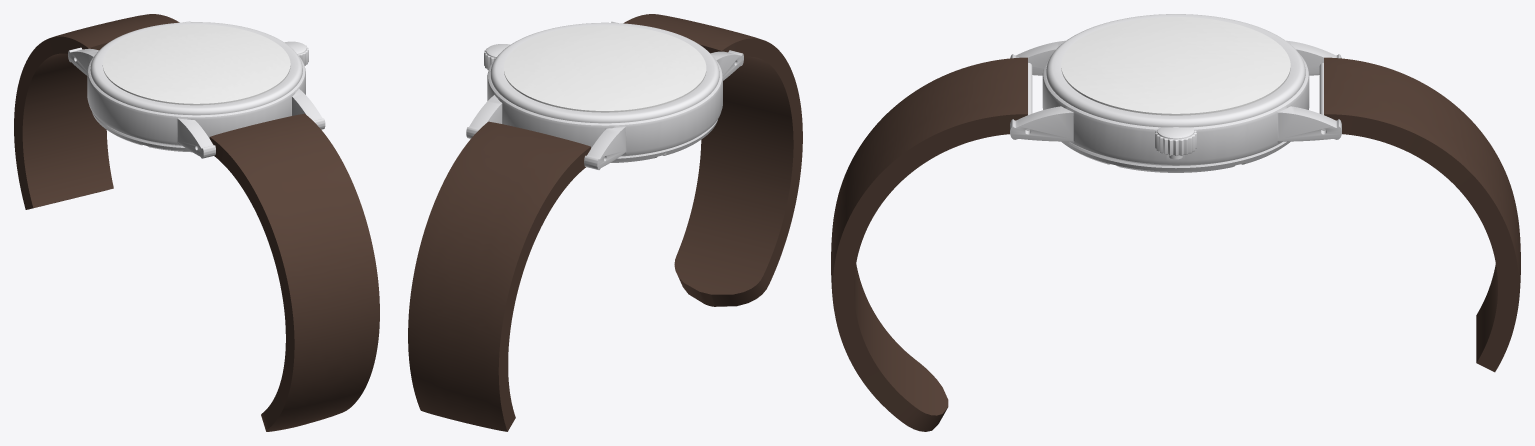
The model's file is uhr.glb.
The picture shows the model from 3 angles, left to right: view 1: azimuth 30°, elevation 25°; view 2: azimuth 150°, elevation 25°; view 3: azimuth 270°, elevation 25°; orthographic projection. The views are drawn at different scales.
Parts seen in each view (by area): view 1: Band_unten, Band_oben, Glas, Gehaeuse, Luenette, Boden; view 2: Band_oben, Band_unten, Glas, Gehaeuse, Luenette, Boden; view 3: Band_unten, Band_oben, Glas, Gehaeuse, Luenette, Boden, Krone.
Part boxes in pixels (left/top/right/bottom): Band_unten: left=209, top=113, right=379, bottom=431; Band_oben: left=14, top=14, right=179, bottom=209; Glas: left=102, top=24, right=290, bottom=105; Gehaeuse: left=68, top=21, right=325, bottom=158; Luenette: left=90, top=22, right=302, bottom=115; Boden: left=92, top=112, right=191, bottom=152; Band_oben: left=408, top=121, right=590, bottom=431; Band_unten: left=623, top=14, right=802, bottom=306; Glas: left=504, top=25, right=706, bottom=112; Gehaeuse: left=466, top=21, right=743, bottom=169; Luenette: left=490, top=22, right=719, bottom=123; Boden: left=610, top=120, right=717, bottom=162; Band_unten: left=831, top=57, right=1027, bottom=431; Band_oben: left=1324, top=57, right=1520, bottom=372; Glas: left=1061, top=17, right=1290, bottom=115; Gehaeuse: left=1010, top=40, right=1341, bottom=165; Luenette: left=1046, top=14, right=1305, bottom=127; Boden: left=1061, top=141, right=1290, bottom=172; Krone: left=1155, top=127, right=1196, bottom=159.
Bounding box in the file's own units: 42.15 × 58.21 × 101.
